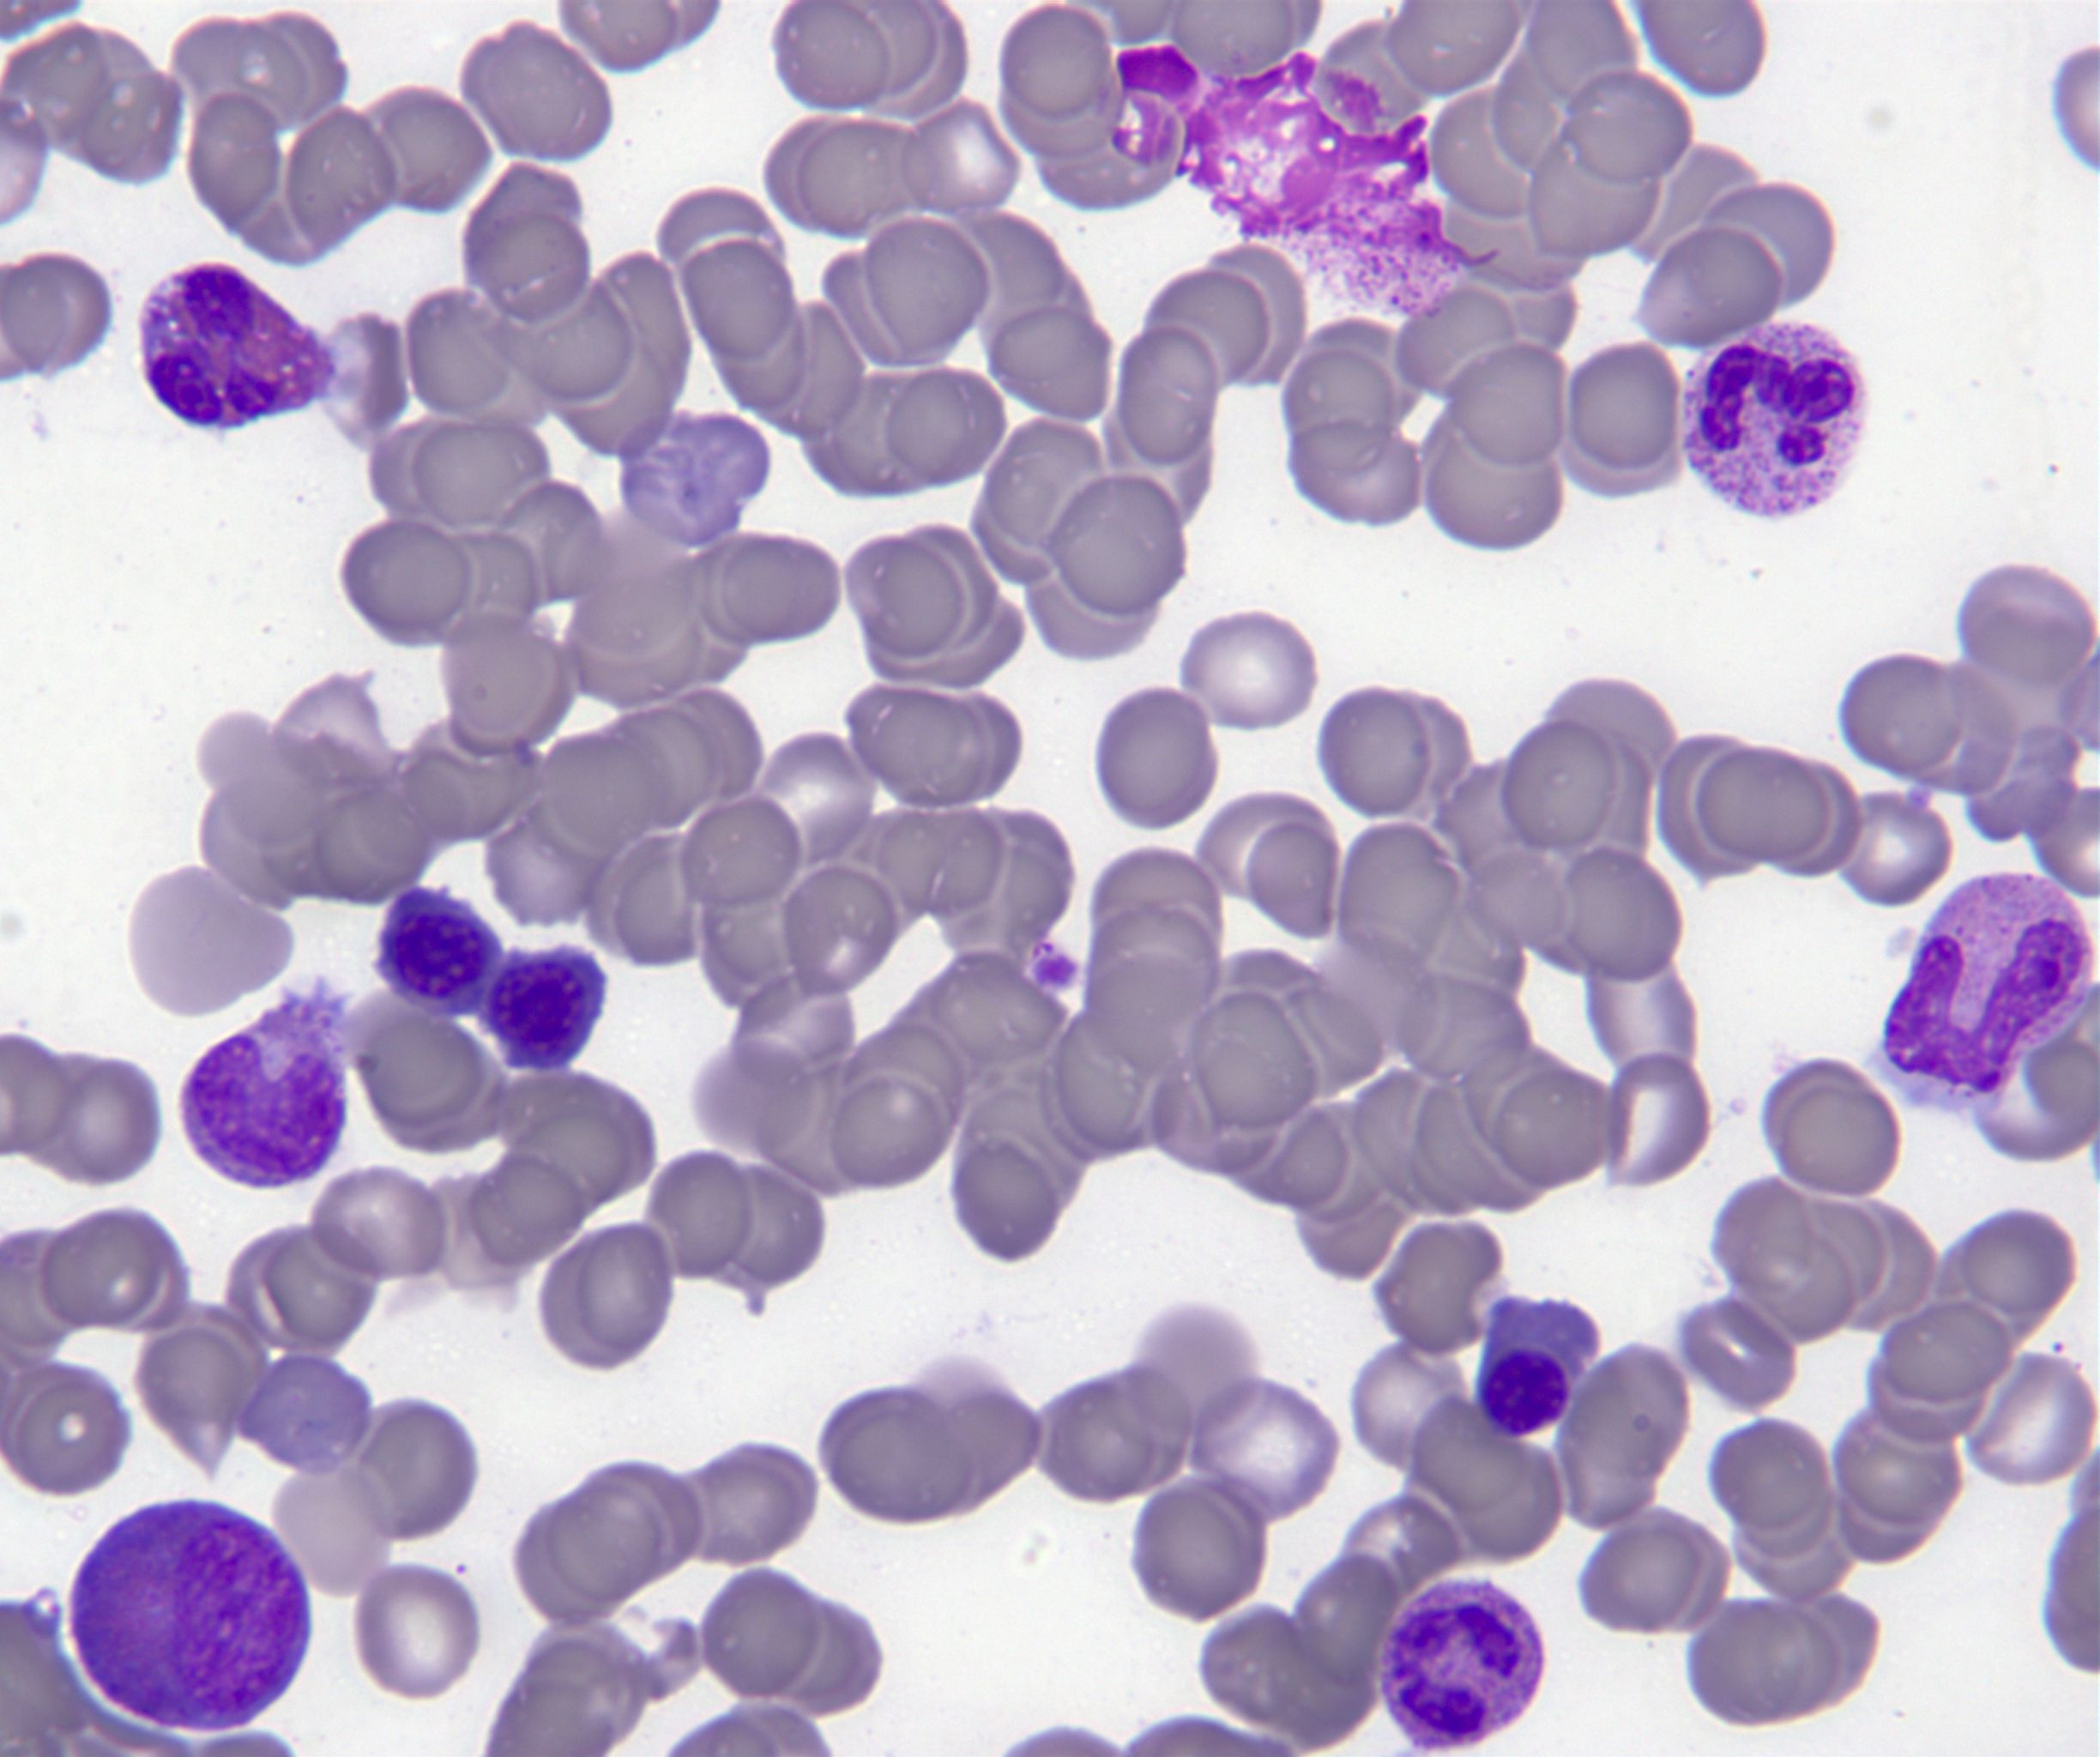23: (1477, 1291, 1603, 1432), (490, 944, 609, 1080), (377, 886, 504, 1010)
3: (180, 984, 356, 1186)
5: (1887, 867, 2098, 1101), (1380, 1576, 1545, 1752)
6: (1683, 332, 1873, 522)
E1: (72, 1497, 316, 1736)
E4: (138, 269, 345, 429)
